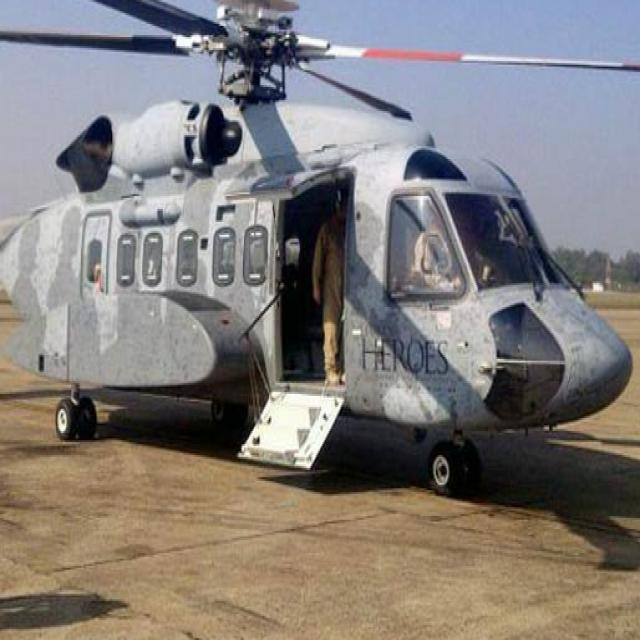helicopter: (1, 1, 640, 500)
